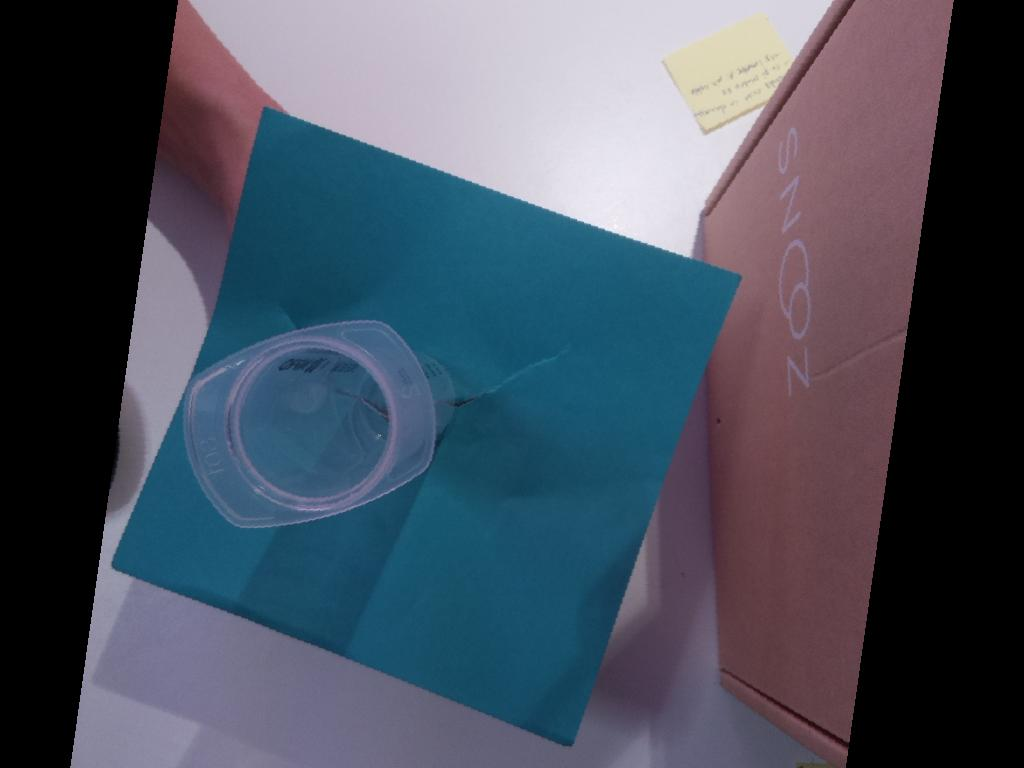clean: (184, 319, 437, 530)
